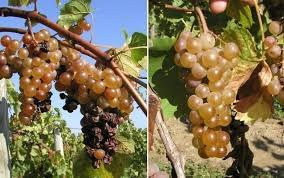Grape Rotten: (0, 23, 136, 168), (174, 29, 240, 158)
